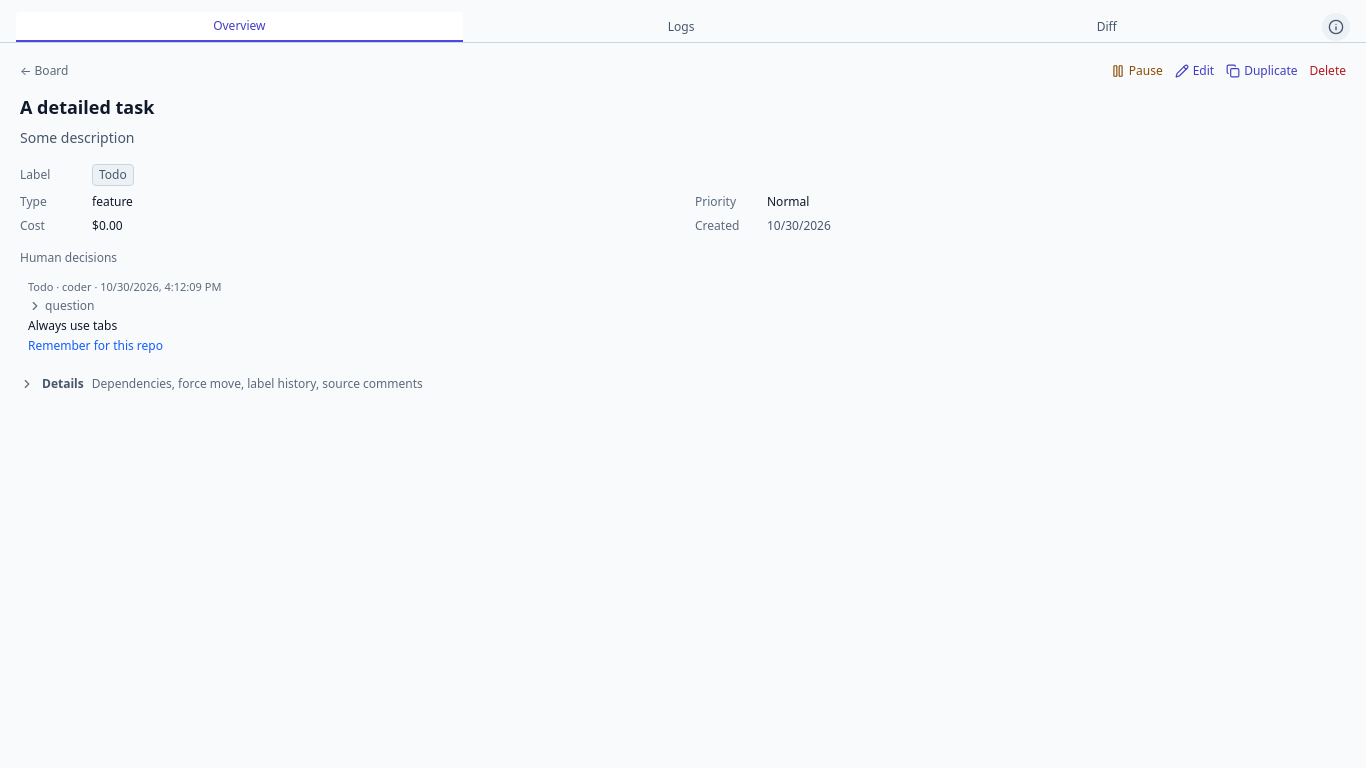
Test case: TaskDetailPage — Remember for this repo › opens a prefilled dialog, saves the lesson and shows a toast
Click the button "Remember for this repo": (96, 346) [28,338,163,354]
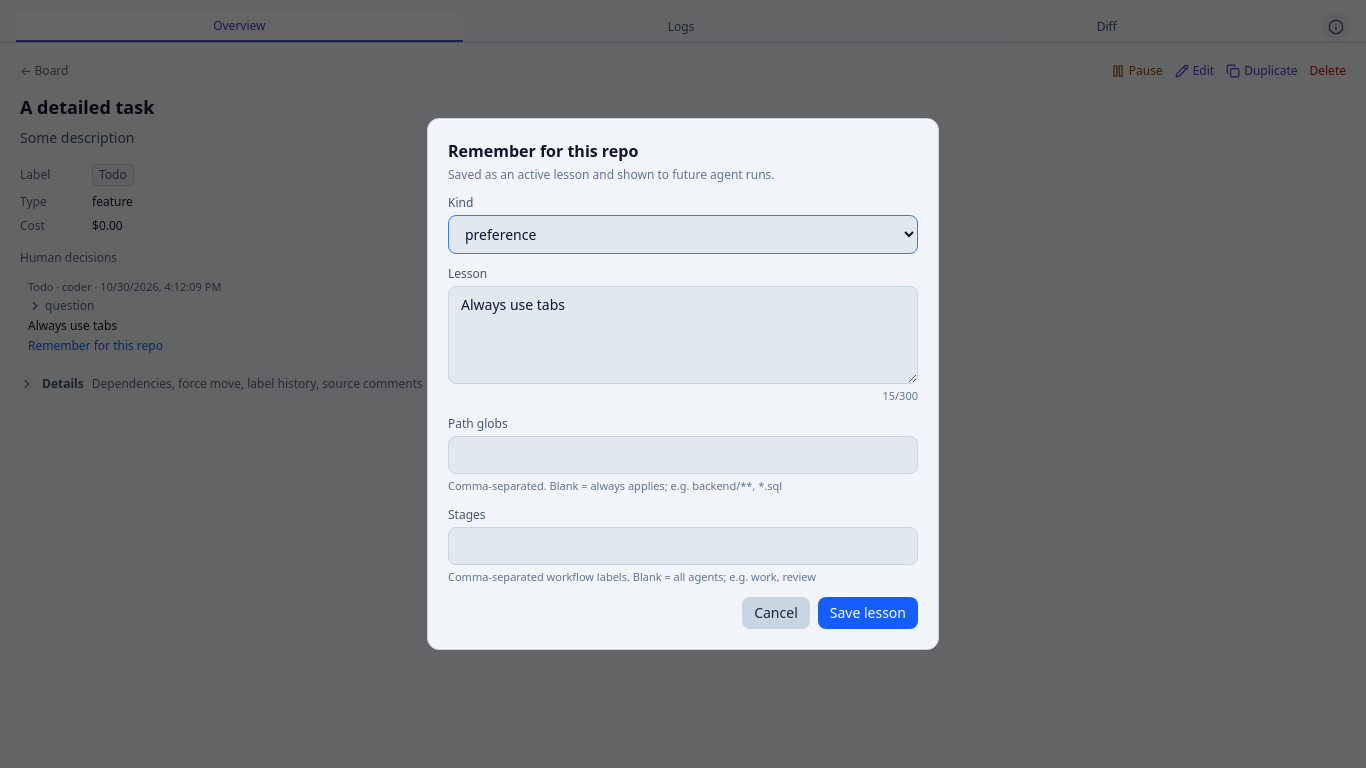
Expected: the text box labelled "Lesson" holds "Always use tabs", [448,286,918,384]
Click the button "Save lesson": (868, 613) [818,597,918,629]
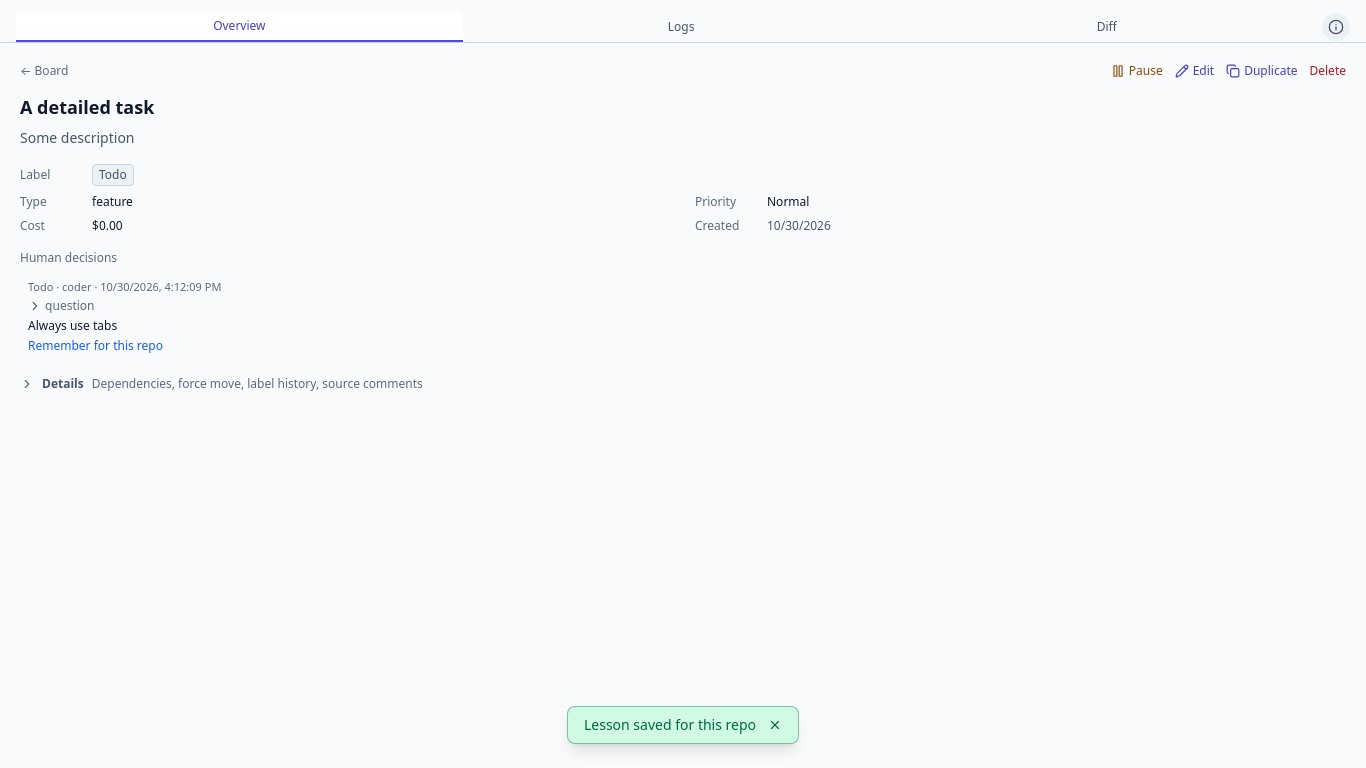
Expected: the message shows "Lesson saved", [584,715,756,734]
